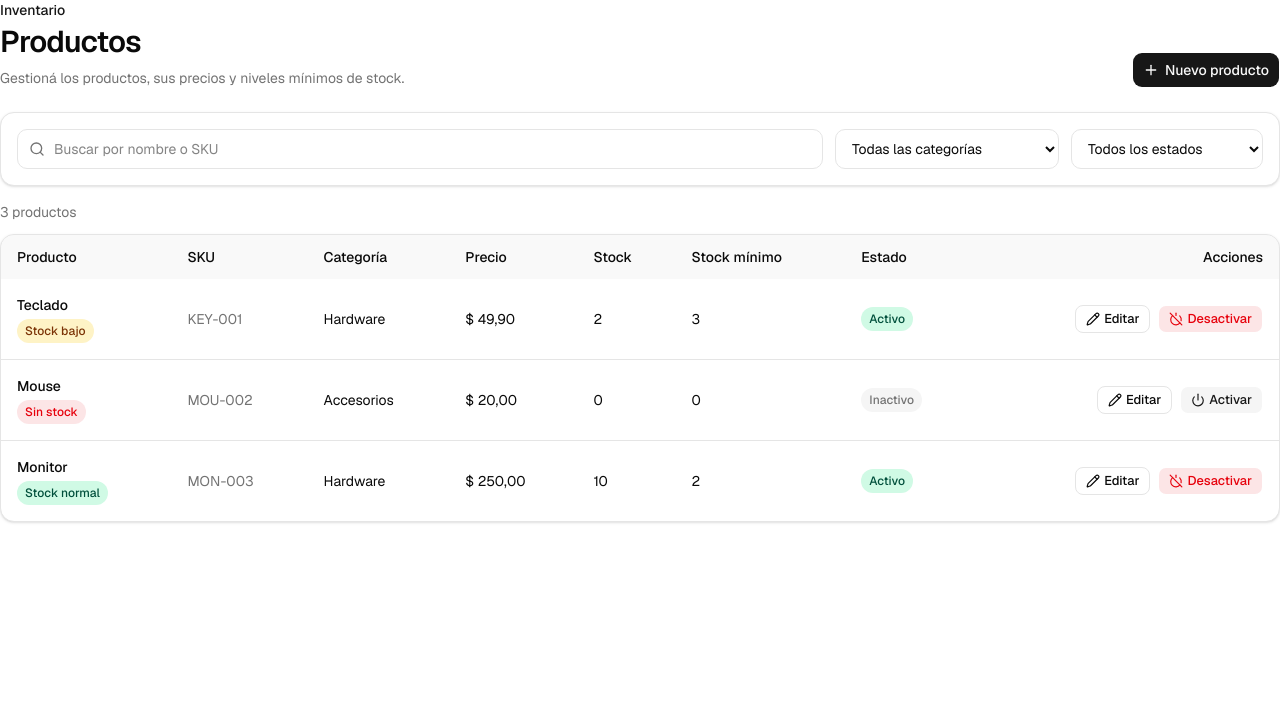
Test case: ProductsPage › keeps the status dialog open when the mutation fails
The image size is (1280, 720).
Click the button with aria-label "Desactivar Teclado" at (1211,319), box left=1158, top=305, right=1263, bottom=333
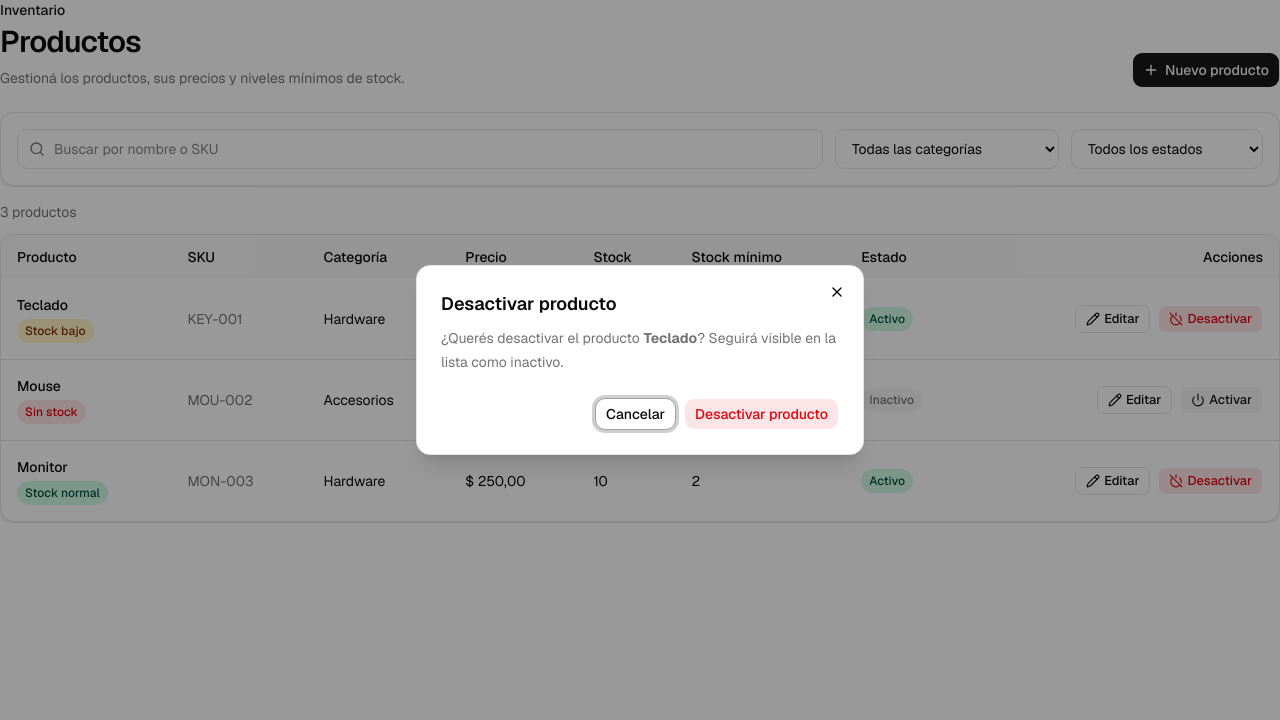
Click the button "Desactivar producto" at (762,414), box left=684, top=398, right=839, bottom=430
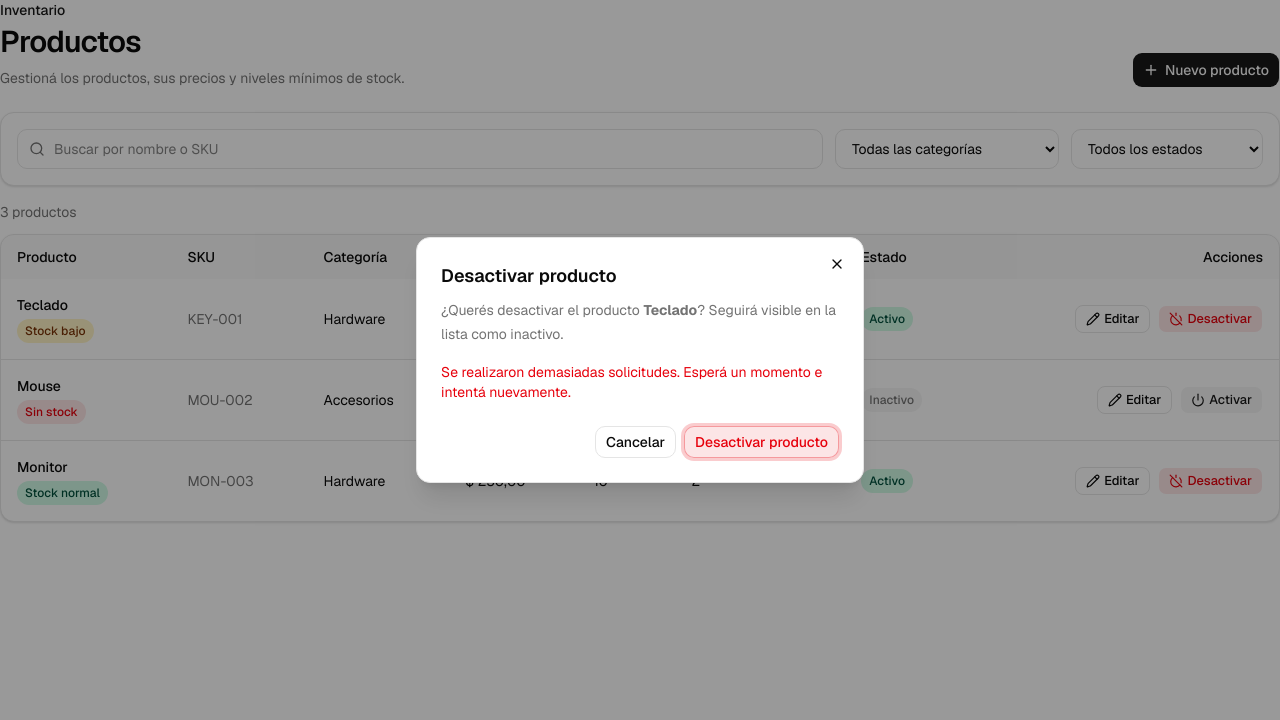
Expected: the dialog is shown, left=416, top=237, right=864, bottom=483
Expected: the message shows "Se realizaron demasiadas solicitudes", left=441, top=363, right=822, bottom=401
